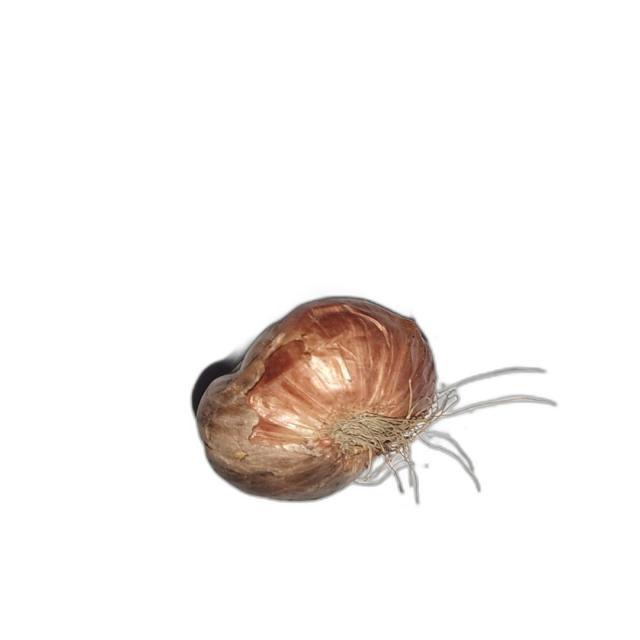onion: (196, 295, 558, 506)
